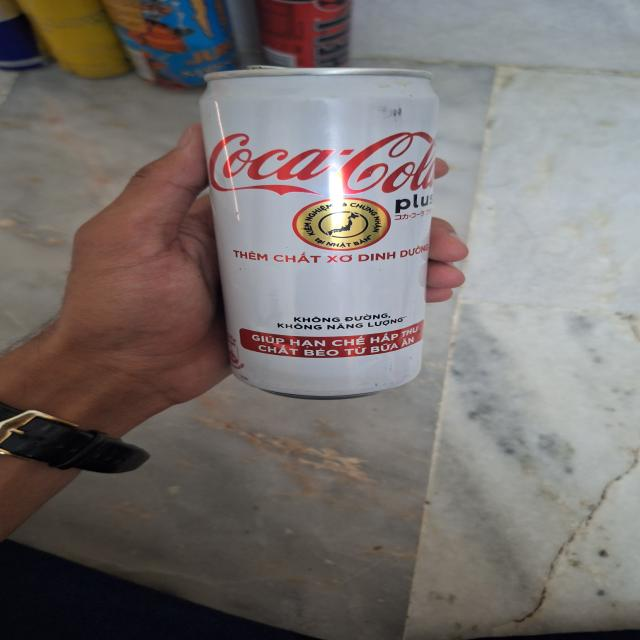Coca Cola Plus: (187, 66, 435, 413)
